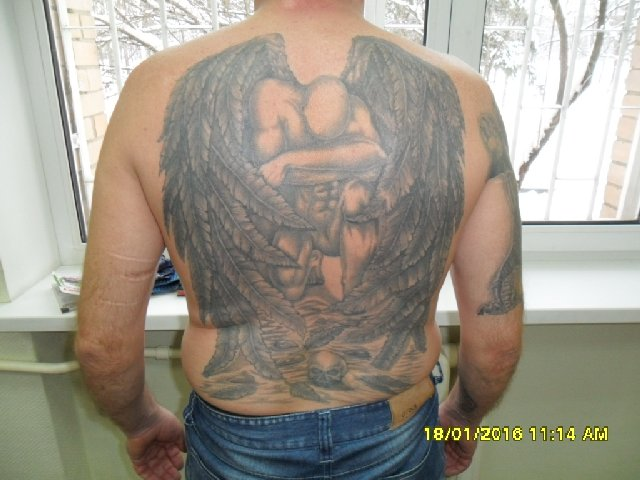tatu1_angel: (169, 38, 453, 318)
